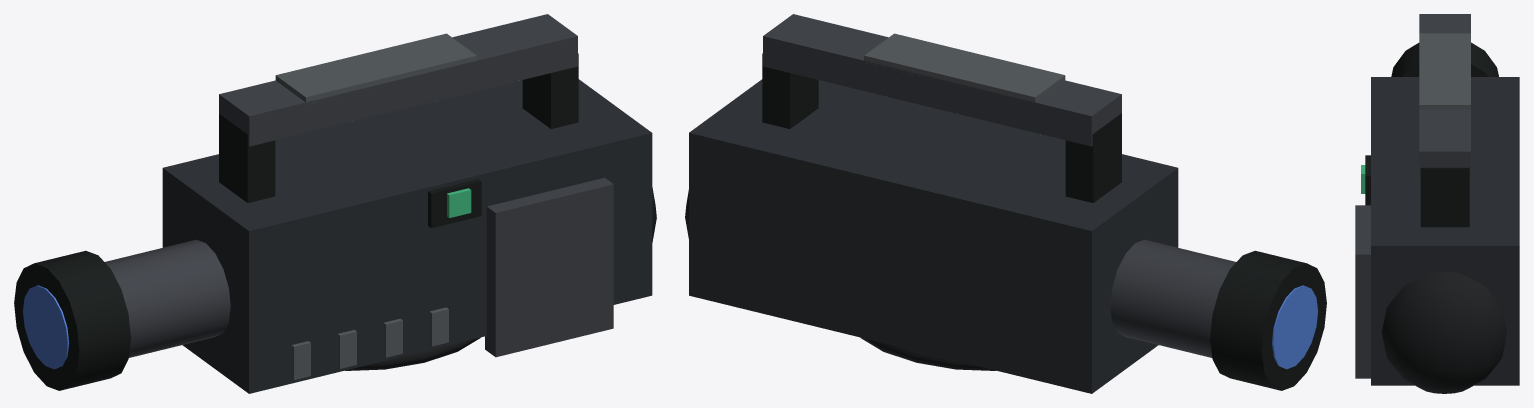
File: CMU3DUtilityRMCCameraBroadcastingCloud.glb
The picture shows the model from 3 angles, left to right: view 1: azimuth 30°, elevation 25°; view 2: azimuth 150°, elevation 25°; view 3: azimuth 270°, elevation 25°; orthographic projection. The views are drawn at different scales.
Parts seen in each view (by area): view 1: camera main body, side cassette compartment, open top handle crossbar, front lens hood, lens barrel, top handle ridge, top handle front post, top handle back post, recessed blue lens, source status diode housing, lower hand rest, lower side vent -0.17 (+4 smaller); view 2: camera main body, open top handle crossbar, front lens hood, lens barrel, top handle ridge, top handle front post, top handle back post, recessed blue lens, lower hand rest; view 3: camera main body, rear shoulder housing, open top handle crossbar, top handle ridge, top handle back post, side cassette compartment, front lens hood, source status diode housing.
Part boxes in pixels (box(x1,y1,x2,y2)): camera main body: box(162, 79, 652, 393); side cassette compartment: box(485, 177, 613, 357); open top handle crossbar: box(219, 14, 577, 146); front lens hood: box(14, 250, 130, 390); lens barrel: box(105, 239, 230, 357); top handle ridge: box(275, 33, 476, 104); top handle front post: box(219, 113, 275, 202); top handle back post: box(522, 53, 578, 128); recessed blue lens: box(23, 285, 69, 369); source status diode housing: box(428, 179, 481, 228); lower hand rest: box(345, 337, 480, 370); lower side vent -0.17: box(291, 341, 310, 379); camera main body: box(689, 79, 1178, 393); open top handle crossbar: box(763, 14, 1121, 146); front lens hood: box(1210, 250, 1326, 390); lens barrel: box(1110, 239, 1235, 357); top handle ridge: box(864, 33, 1065, 103); top handle front post: box(1065, 113, 1121, 202); top handle back post: box(762, 53, 818, 128); recessed blue lens: box(1272, 285, 1317, 369); lower hand rest: box(861, 337, 995, 370); camera main body: box(1371, 77, 1519, 385); rear shoulder housing: box(1381, 272, 1507, 393); open top handle crossbar: box(1419, 14, 1470, 177); top handle ridge: box(1419, 33, 1470, 109); top handle back post: box(1420, 167, 1469, 227); side cassette compartment: box(1355, 205, 1370, 378); front lens hood: box(1391, 42, 1498, 76); source status diode housing: box(1365, 155, 1370, 205).
Size of what is drawn, in the model's own units: 0.847 by 0.386 by 0.234.
